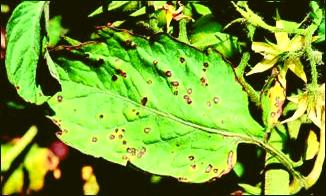Tomato leaf bacterial spot: (43, 36, 262, 182)
